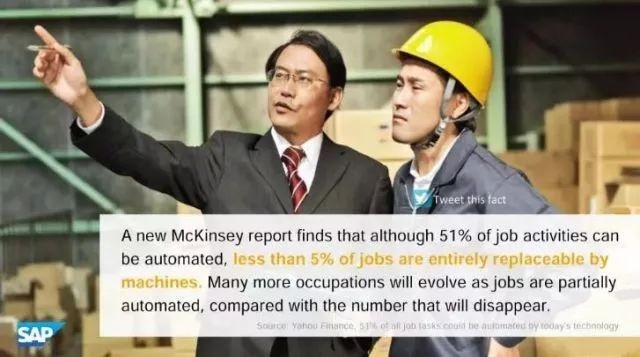none: (262, 31, 346, 138)
yellow: (388, 21, 492, 151)
